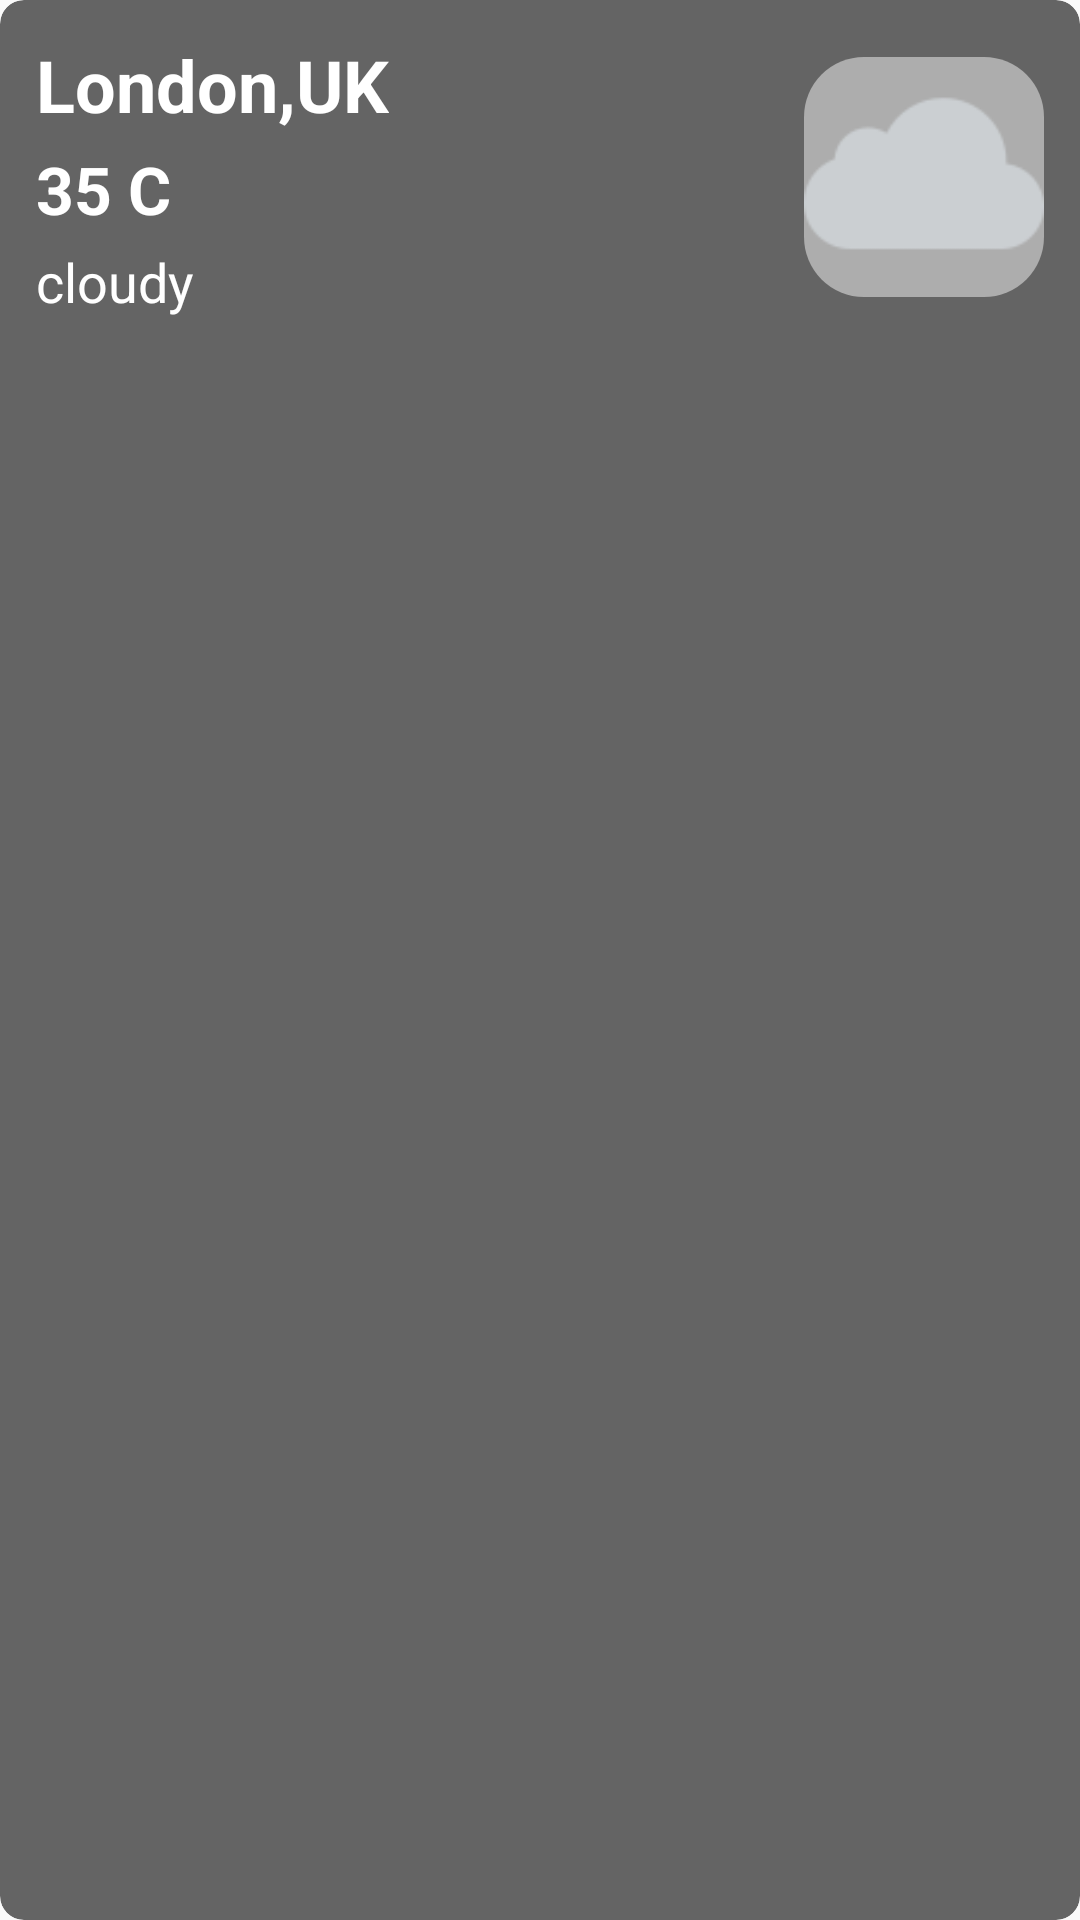

Where to tap for icons on this 1080×1920 app screen, as (x,y):
cloudy: (924,177)
